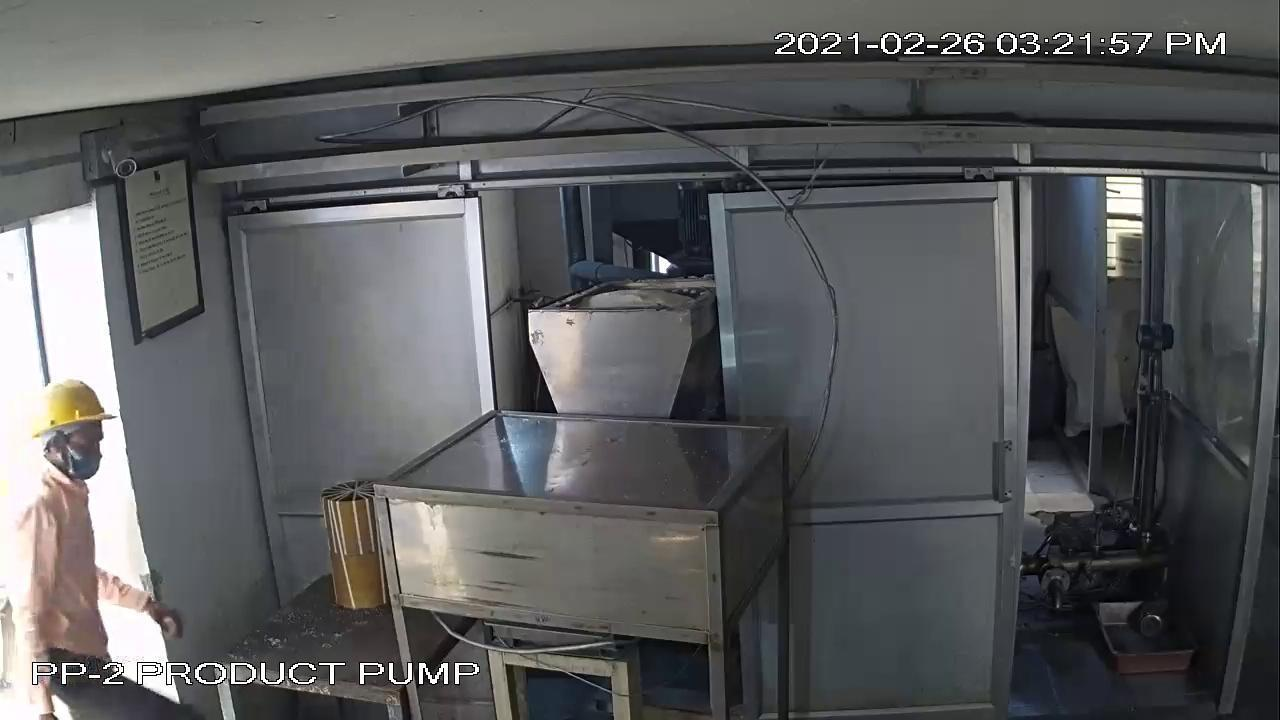helmet: (25, 367, 131, 460)
